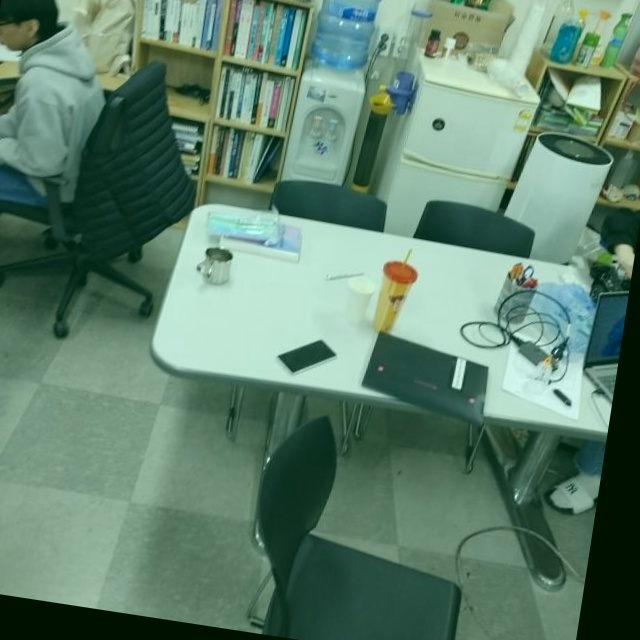cup: (195, 243, 236, 289)
phone: (276, 334, 338, 381)
